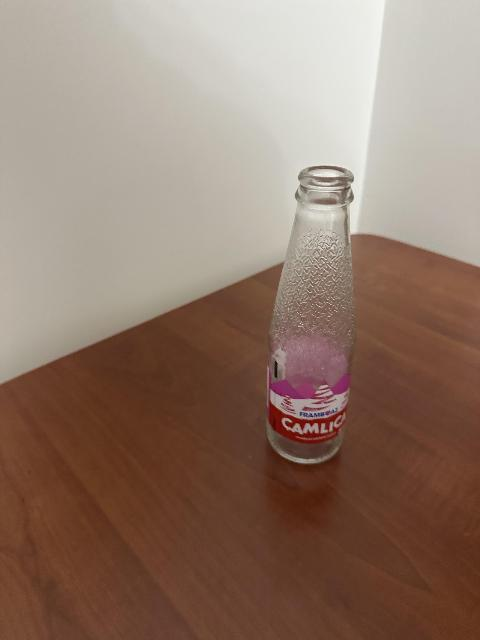Cam: (263, 163, 370, 468)
